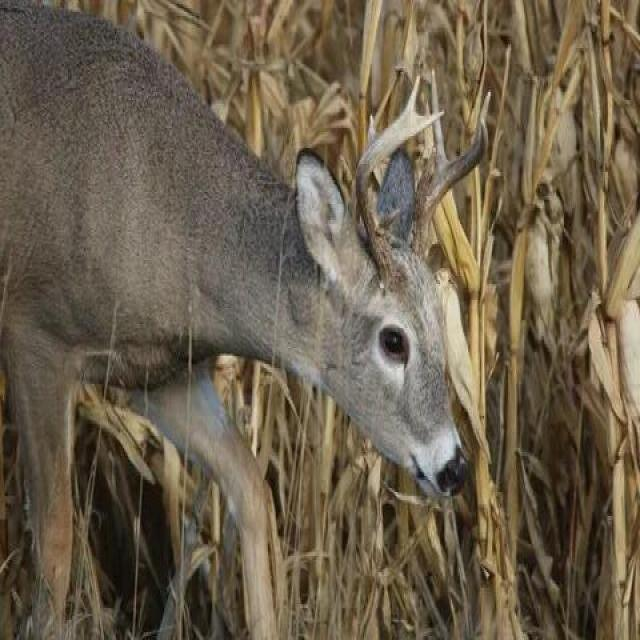deer: (0, 26, 468, 640)
